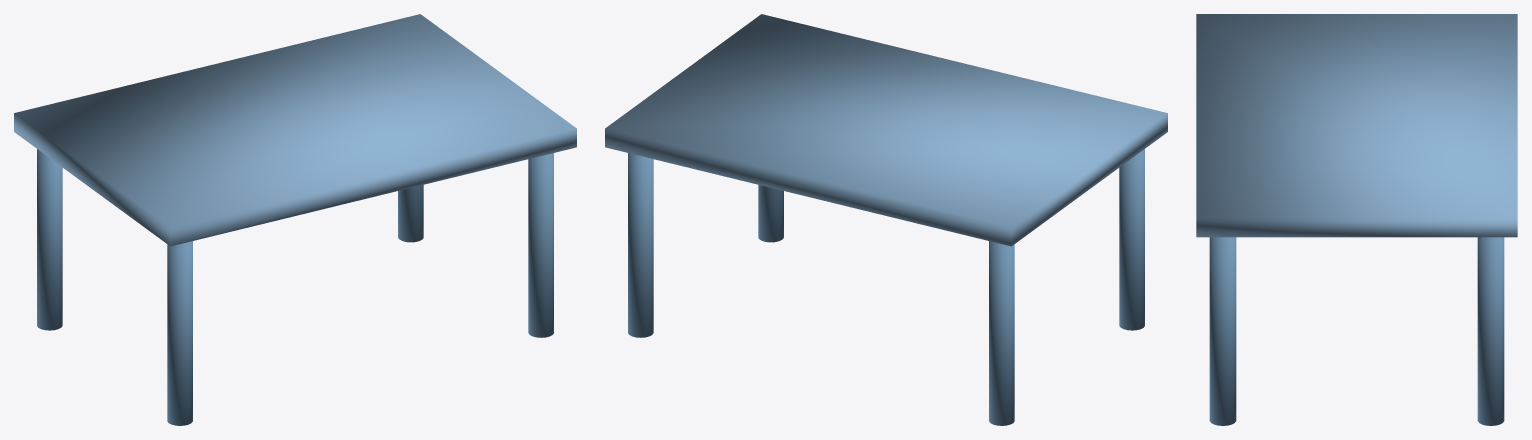
The model's file is table.glb.
3 views of the same model, side by side, from view 1: azimuth 30°, elevation 25°; view 2: azimuth 150°, elevation 25°; view 3: azimuth 270°, elevation 25° (orthographic). The views are drawn at different scales.
Visible parts, largest first — view 1: top, leg_-0.8_0.5, leg_0.8_0.5, leg_-0.8_-0.5, leg_0.8_-0.5; view 2: top, leg_-0.8_-0.5, leg_0.8_-0.5, leg_-0.8_0.5, leg_0.8_0.5; view 3: top, leg_0.8_0.5, leg_0.8_-0.5.
Part boxes in pixels (box(x1,y1,x2,y2)): top: box(14, 14, 576, 246); leg_-0.8_0.5: box(167, 241, 192, 425); leg_0.8_0.5: box(528, 153, 553, 337); leg_-0.8_-0.5: box(37, 149, 62, 330); leg_0.8_-0.5: box(398, 185, 423, 242); top: box(605, 14, 1167, 246); leg_-0.8_-0.5: box(989, 241, 1014, 425); leg_0.8_-0.5: box(628, 153, 653, 337); leg_-0.8_0.5: box(1119, 149, 1144, 330); leg_0.8_0.5: box(758, 185, 783, 242); top: box(1196, 14, 1517, 237); leg_0.8_0.5: box(1209, 237, 1236, 425); leg_0.8_-0.5: box(1477, 237, 1504, 425).
Size of the model in its own units: 1.8 by 0.88 by 1.2.
